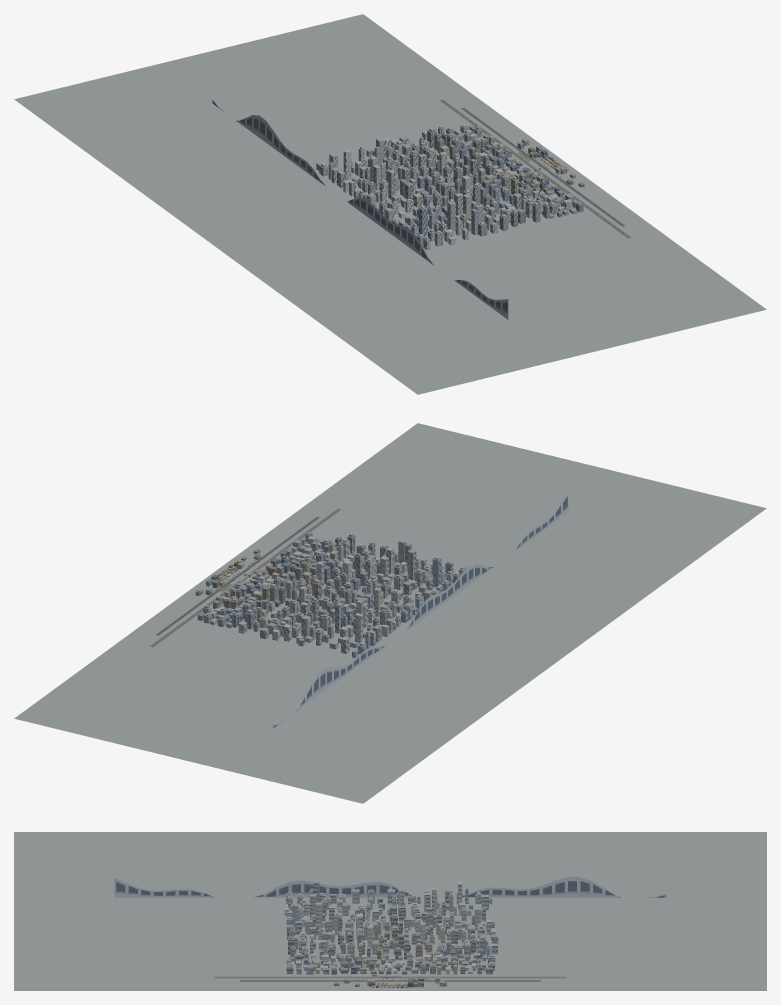
Rendered from window_city.glb.
3 views of the same model, one above another, from view 1: azimuth 30°, elevation 25°; view 2: azimuth 150°, elevation 25°; view 3: azimuth 270°, elevation 25° (orthographic). The views are drawn at different scales.
Parts seen in each view (by area): view 1: CityStatic; view 2: CityStatic; view 3: CityStatic.
Part boxes in pixels (x1,y1,x2,y2): CityStatic: (14, 14, 766, 394); CityStatic: (14, 423, 766, 803); CityStatic: (14, 832, 766, 990).
Bounding box in the file's own units: 1498 × 145 × 3000.
3 materials, 1 textured.
